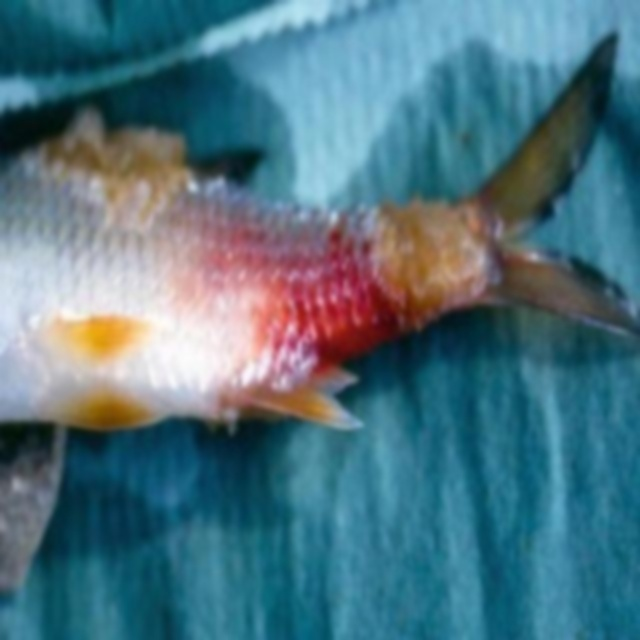EUS Disease: (2, 33, 636, 428), (145, 105, 522, 449)
